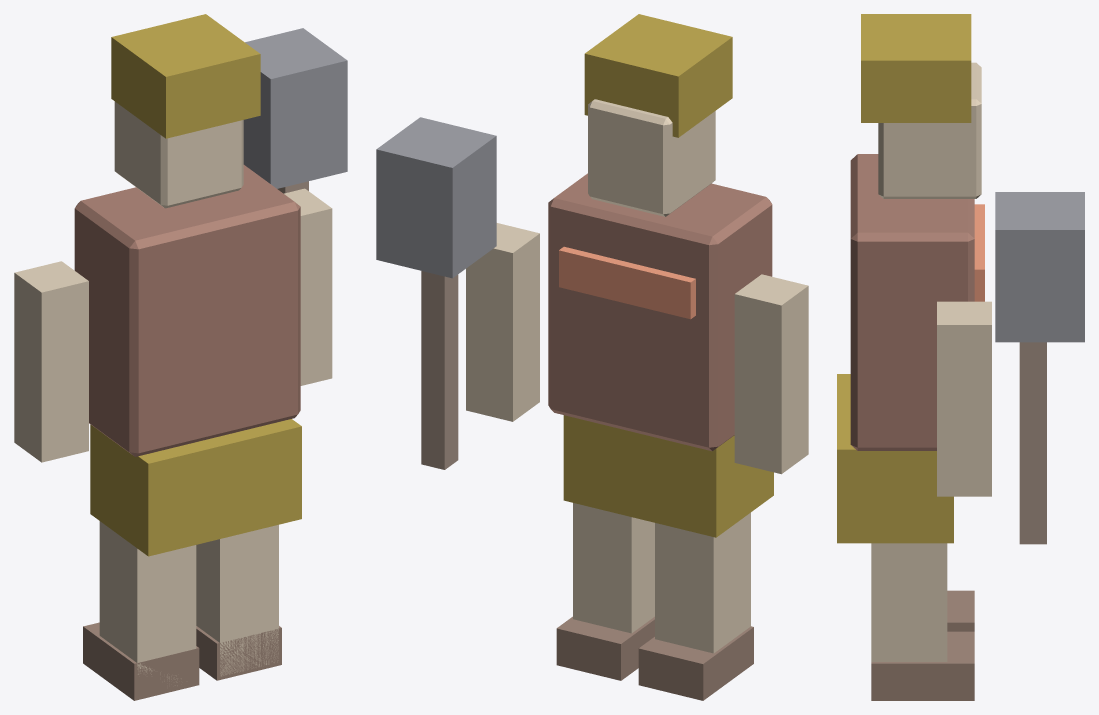
File: barbarian_01_lo1.glb
The picture shows the model from 3 angles, left to right: view 1: azimuth 30°, elevation 25°; view 2: azimuth 150°, elevation 25°; view 3: azimuth 270°, elevation 25°; orthographic projection.
Parts seen in each view (by area): view 1: barbarian_01_lo1; view 2: barbarian_01_lo1; view 3: barbarian_01_lo1.
Boxes of the visible parts, left/top/right/bottom form: barbarian_01_lo1: left=14, top=14, right=347, bottom=700; barbarian_01_lo1: left=376, top=14, right=808, bottom=700; barbarian_01_lo1: left=837, top=14, right=1084, bottom=700.
Bounding box in the file's own units: 1.18 × 2.01 × 0.72.
